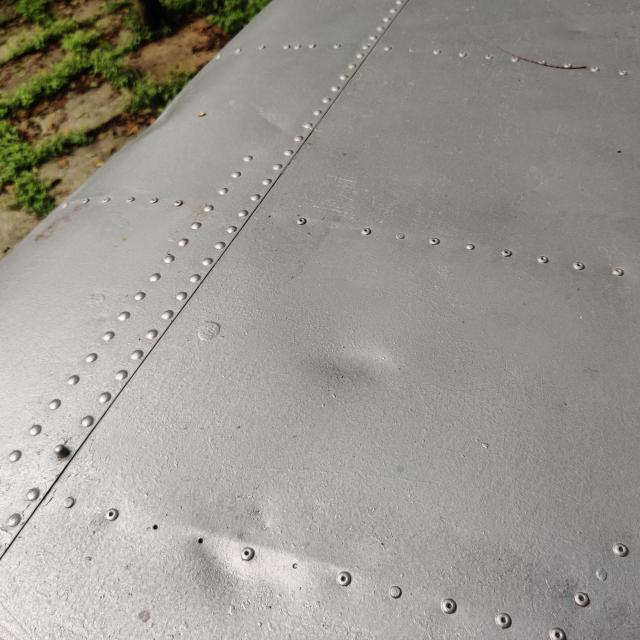dent: (171, 484, 310, 618), (292, 299, 428, 418)
